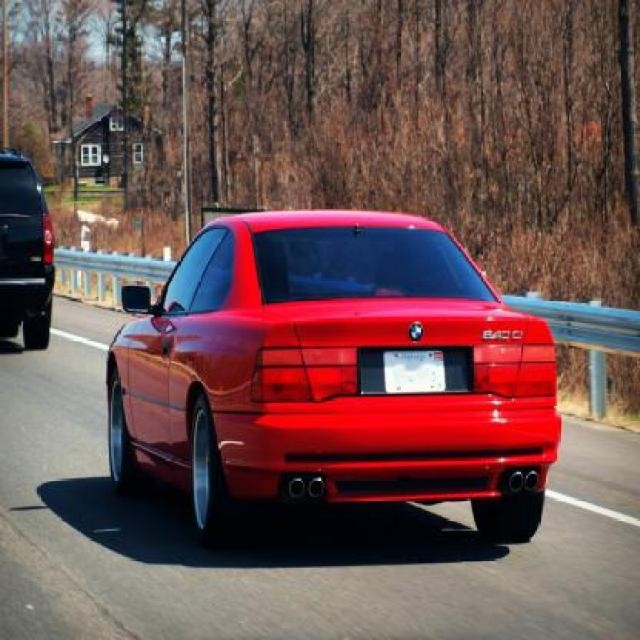car: (107, 204, 560, 554), (0, 154, 54, 341)
